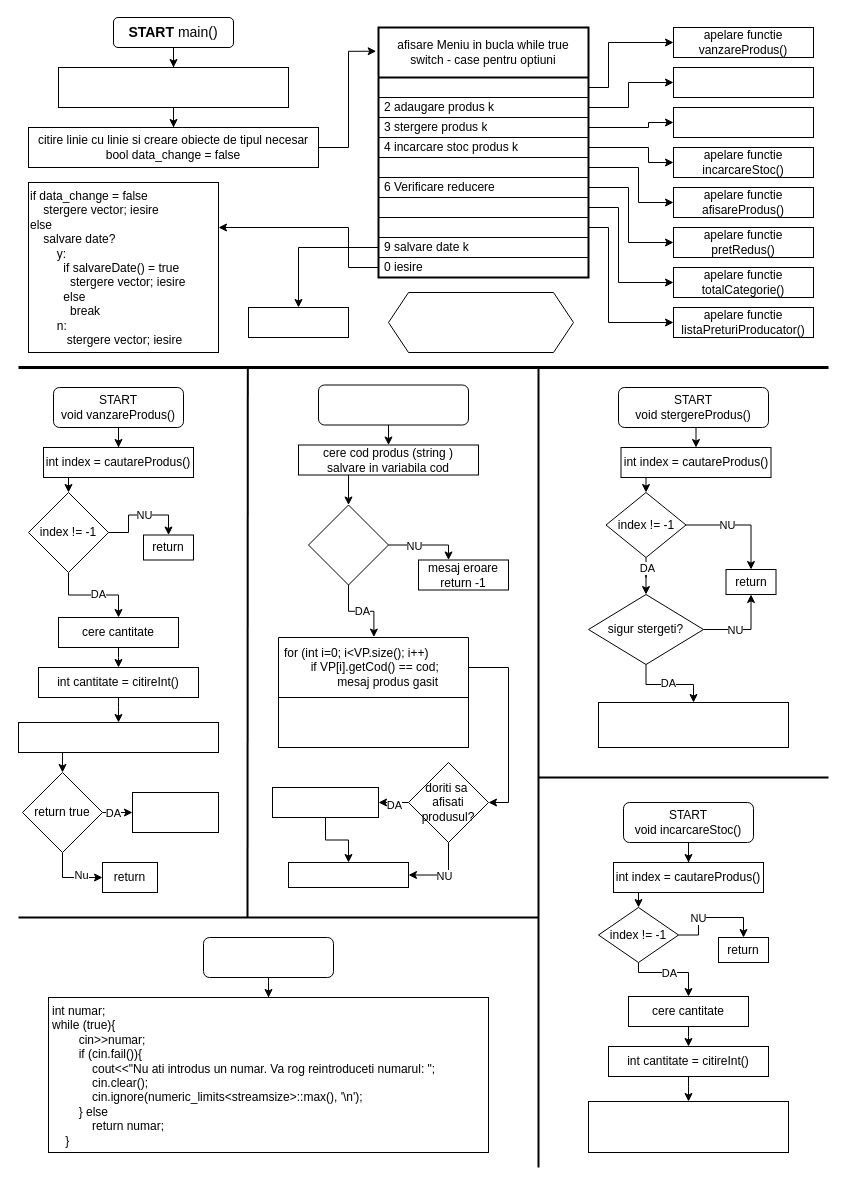
This 848x1187 diagram has some shape labels left out. The centre of each missing label's shape, as x and y in pixels:
"1 vanzare produs k" belongs at pixel 483 87.
"5 afisare produs k" belongs at pixel 483 167.
"7 total categorie k" belongs at pixel 483 207.
"8 afisare preturi producator k" belongs at pixel 483 227.
"apelare functie adaugareProdus()" belongs at pixel 743 82.
"apelare functie salvareDate()" belongs at pixel 298 322.
"apelare functie stergereProdus()" belongs at pixel 743 122.
"cod.length() = 6" belongs at pixel 348 544.
"data_change = true" belongs at pixel 175 812.
"definire vector vectorProduse denumit in continuare VP" belongs at pixel 173 87.
"else mesaj ca nu exista return -1" belongs at pixel 373 722.
"return i" belongs at pixel 348 875.
"START int cautareProdus(&VP)" belongs at pixel 393 404.
"START int citireInt()" belongs at pixel 268 957.
"toate functiile primesc argumentele: 1. & vectorul cu obiecte 2. & data_change" belongs at pixel 481 322.
"VP.erase(VP.begin() + index) data_change = true" belongs at pixel 693 725.
"VP[i].afisare()" belongs at pixel 325 802.
"VP[index].incarcaStoc(cantitate) data_change = true" belongs at pixel 688 1126.
"VP[index].vanzareProdus(cantitate)" belongs at pixel 118 737.
